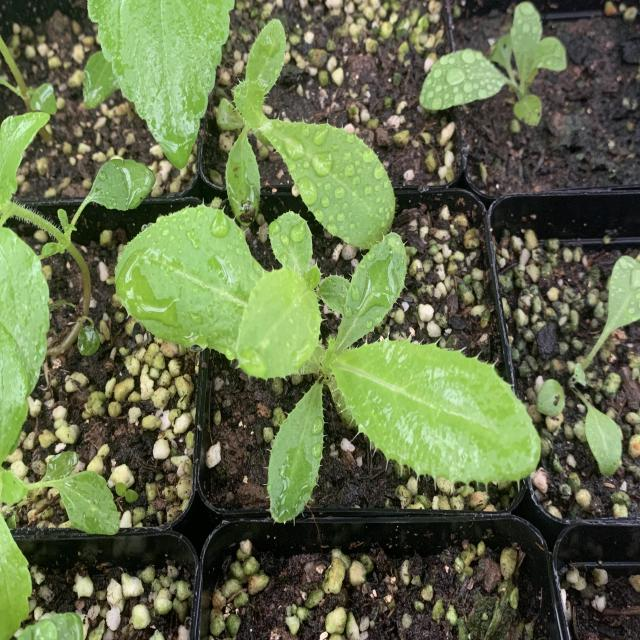field_thistle: (130, 200, 546, 526), (210, 32, 422, 238)
